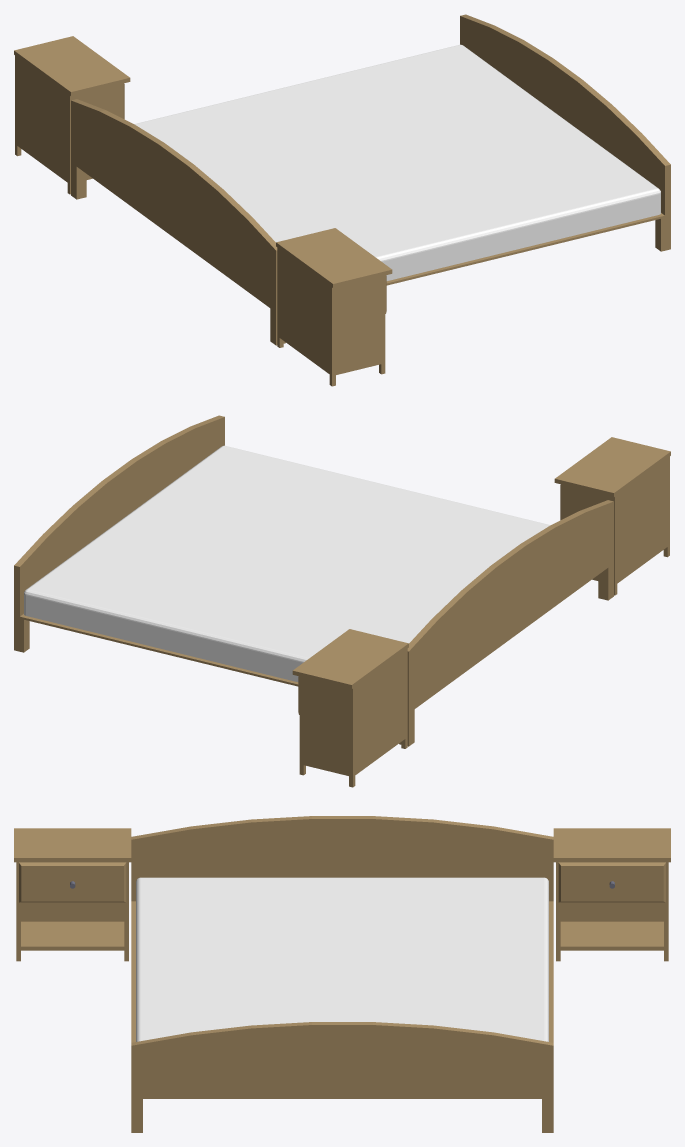
The model's file is suleman terrain.obj.
3 views of the same model, one above another, from view 1: azimuth 30°, elevation 25°; view 2: azimuth 150°, elevation 25°; view 3: azimuth 270°, elevation 25° (orthographic). The views are drawn at different scales.
Parts seen in each view (by area): view 1: obj1; view 2: obj1; view 3: obj1.
Part boxes in pixels (x1=…): obj1: x1=14, y1=14, x2=670, y2=386; obj1: x1=14, y1=415, x2=670, y2=787; obj1: x1=14, y1=816, x2=670, y2=1132.
Size of the model in its own units: 2 by 0.558 by 2.8.
